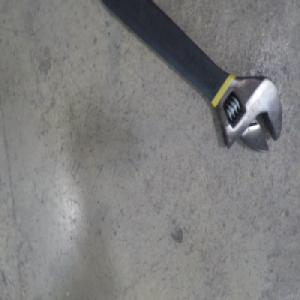AdjustableWrench: (98, 0, 279, 155)
